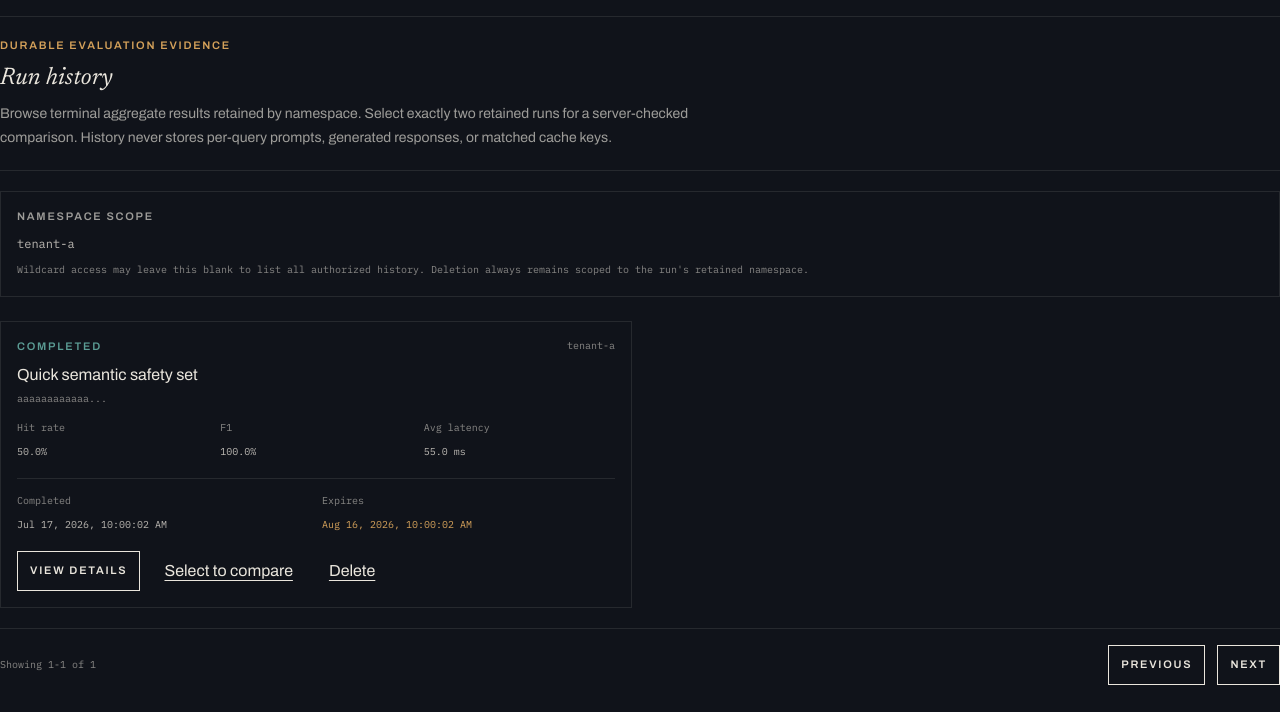
Scenario: EvaluationRunHistory › lists retained aggregate runs and loads detail on demand
Expected: the heading "Quick semantic safety set" is shown, x1=17 y1=362 x2=198 y2=386
Expected: the text "50.0%" is shown, x1=17 y1=444 x2=47 y2=458
Click the button "View details" at [79, 570], box x1=17 y1=550 x2=140 y2=590
(page scrolled)
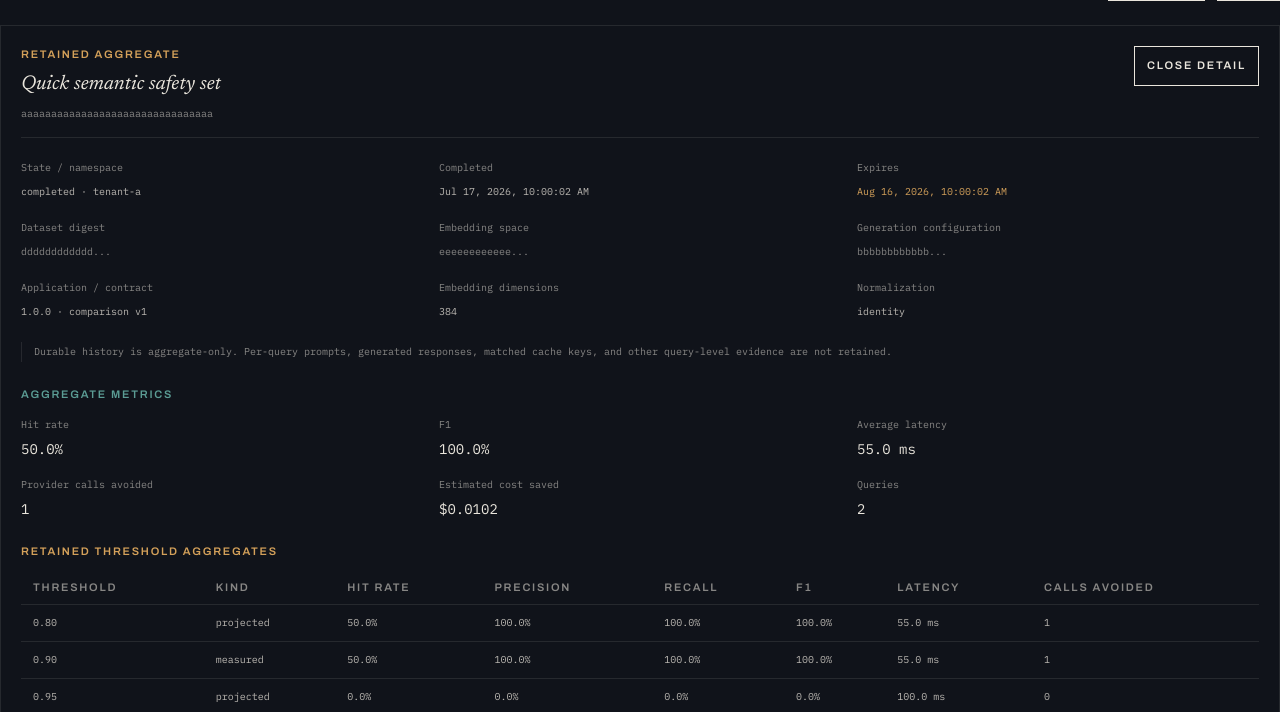
Result: the text "Per-query prompts, generated responses" is shown at x1=34 y1=345 x2=892 y2=358
